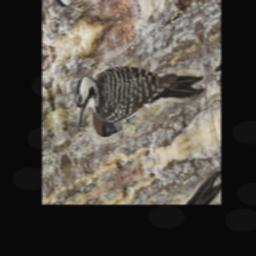Woodpecker: (67, 19, 208, 160)
